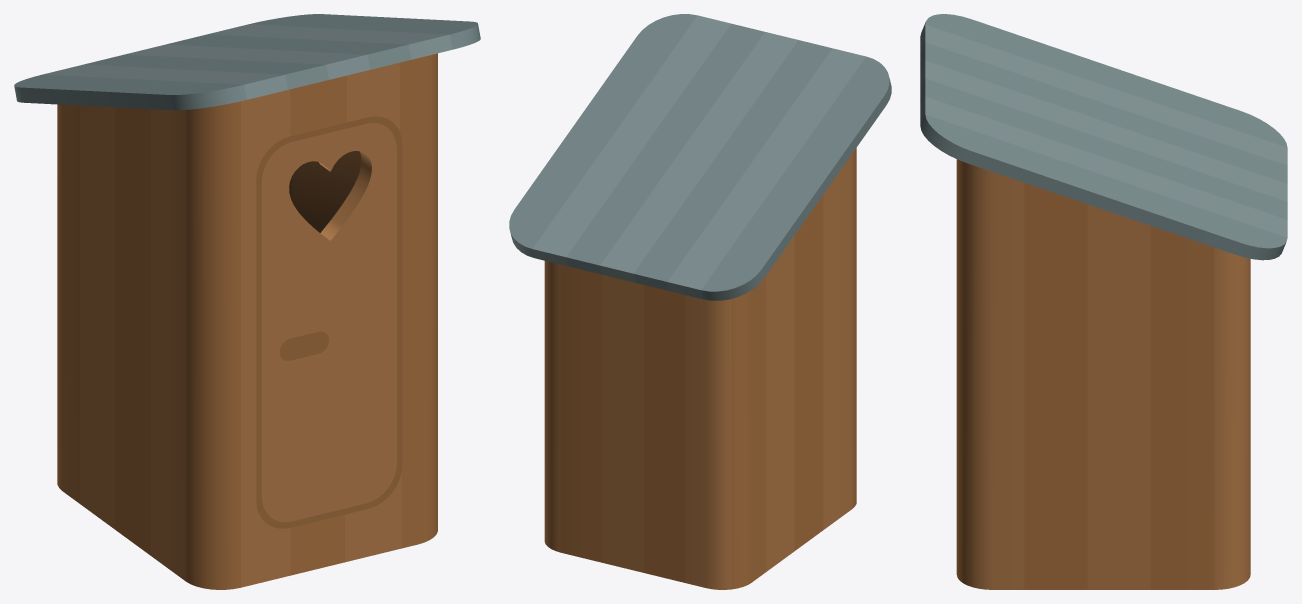
File: Toilet.fbx
3 renders of one model, left to right at view 1: azimuth 30°, elevation 25°; view 2: azimuth 150°, elevation 25°; view 3: azimuth 270°, elevation 25°, orthographic. The views are drawn at different scales.
Visible parts, largest first — view 1: Cabin, Door toilet; view 2: Cabin; view 3: Cabin.
Boxes of the visible parts, x1,y1,x2,y2 form: Cabin: (14,14,480,589); Door toilet: (256,116,402,528); Cabin: (509,14,891,589); Cabin: (920,14,1287,589).
Size of the model in its own units: 2.02 by 3.33 by 2.38.
